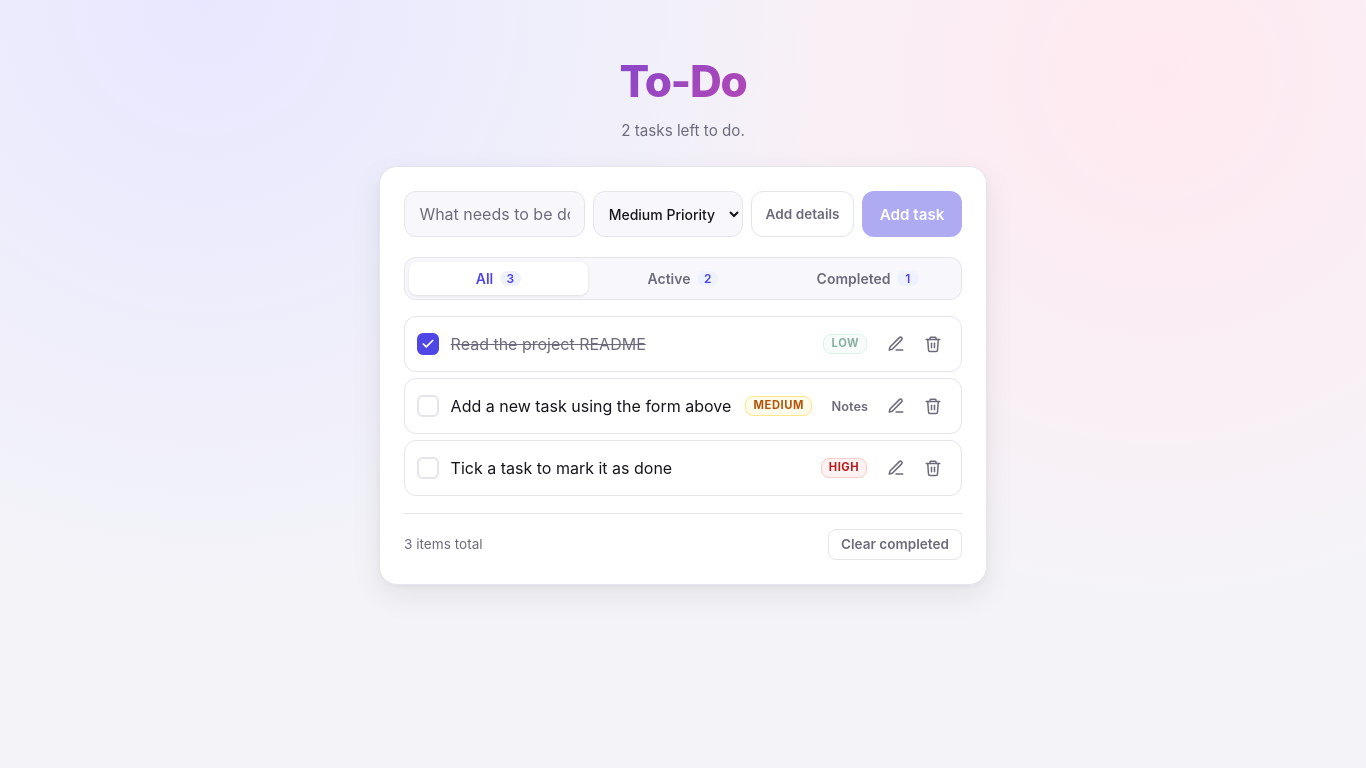
Test case: Task notes › edits notes inline
Click the button named "Edit task: Add a new task using the form above": (896,406) [879,390,912,422]
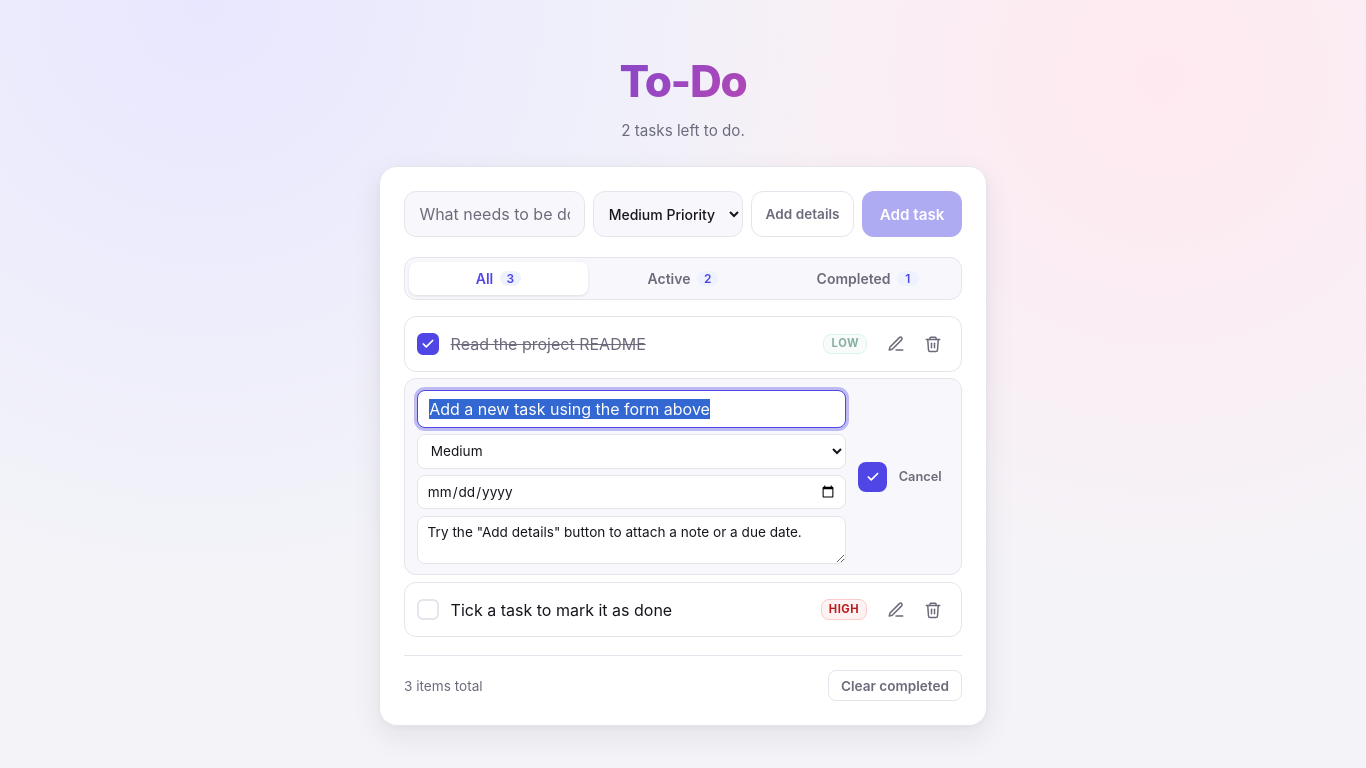
Replace the text in the text box named "Edit notes" with "Updated note": (632,540) [417,516,846,564]
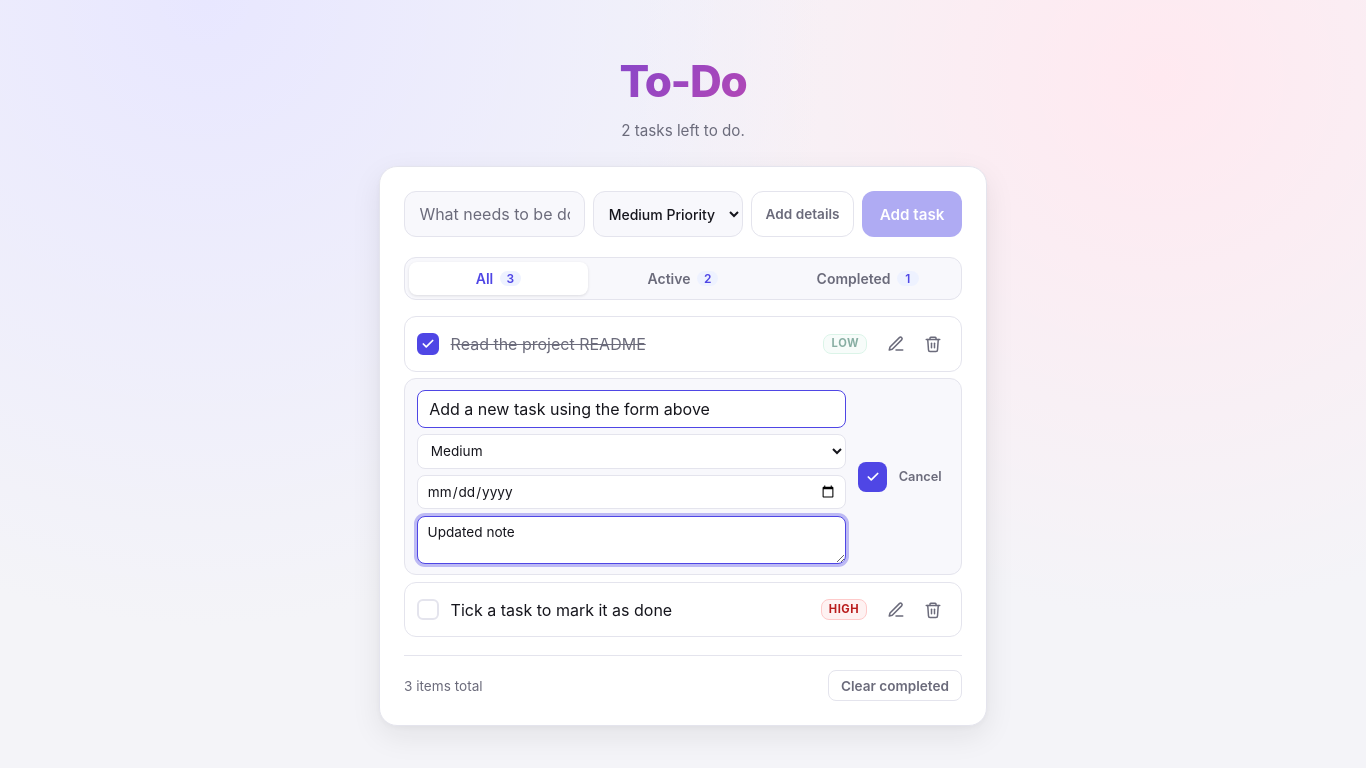
Click the button named "Save task": (873,477) [858,462,887,492]
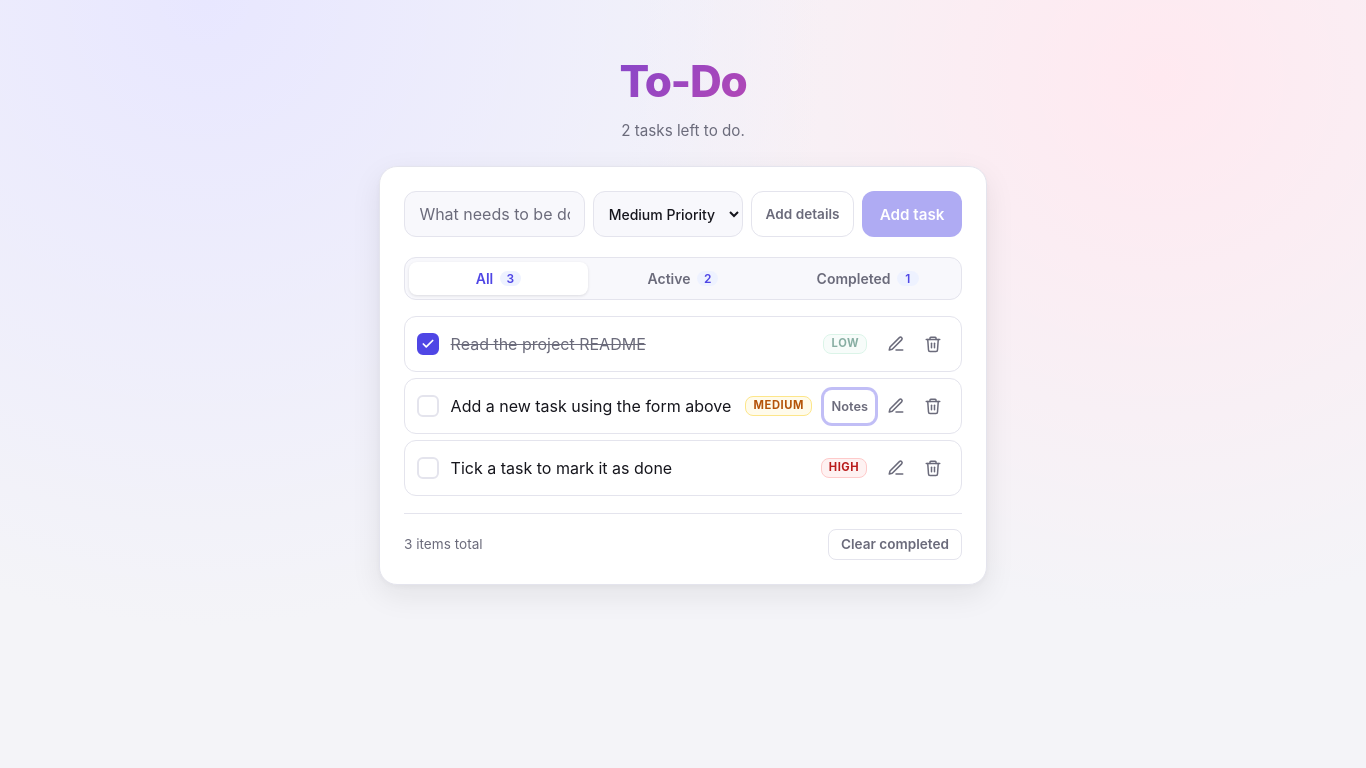
Click the button with aria-label "Show notes for task: Add a new task using the form above": (850,406) [824,390,876,422]
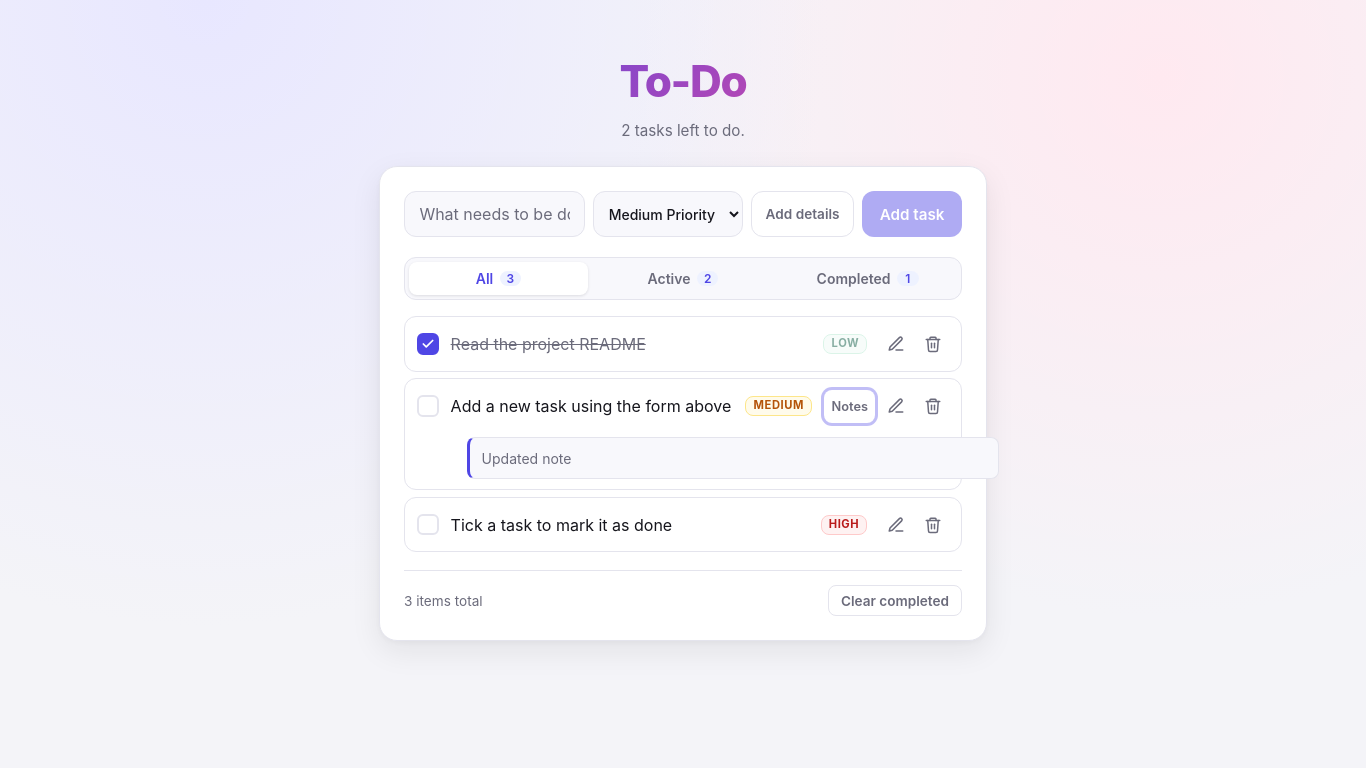
Result: the text "Updated note" is shown at [467,437,999,479]
